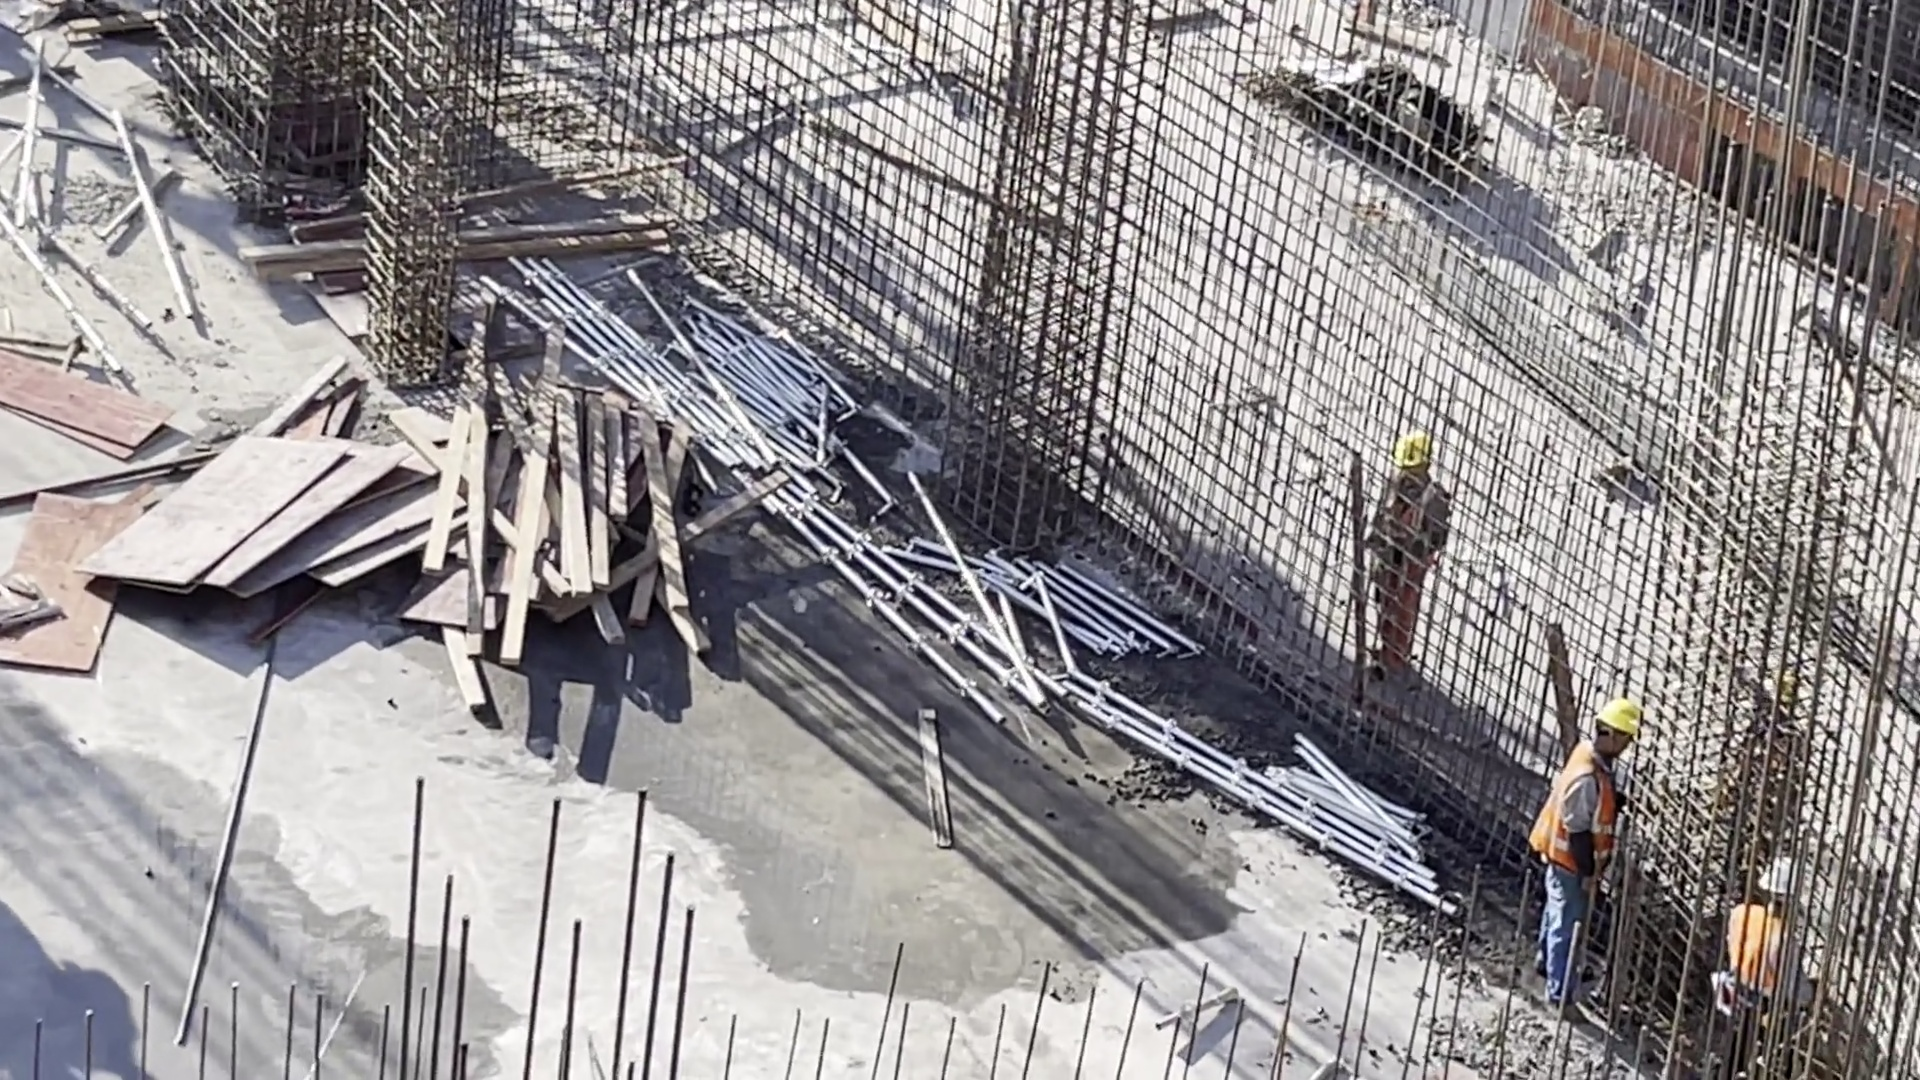board: (78, 433, 448, 608)
helmet: (1581, 695, 1644, 752), (1397, 431, 1440, 474), (1767, 865, 1811, 894)
person: (1514, 672, 1636, 1002), (1359, 424, 1451, 671), (1712, 856, 1812, 1023)
scaffold: (591, 285, 832, 471), (1216, 731, 1397, 864), (957, 552, 1142, 678)
vest: (1527, 736, 1610, 864), (1374, 477, 1462, 570), (1732, 906, 1795, 993)
wood: (454, 333, 695, 652)
